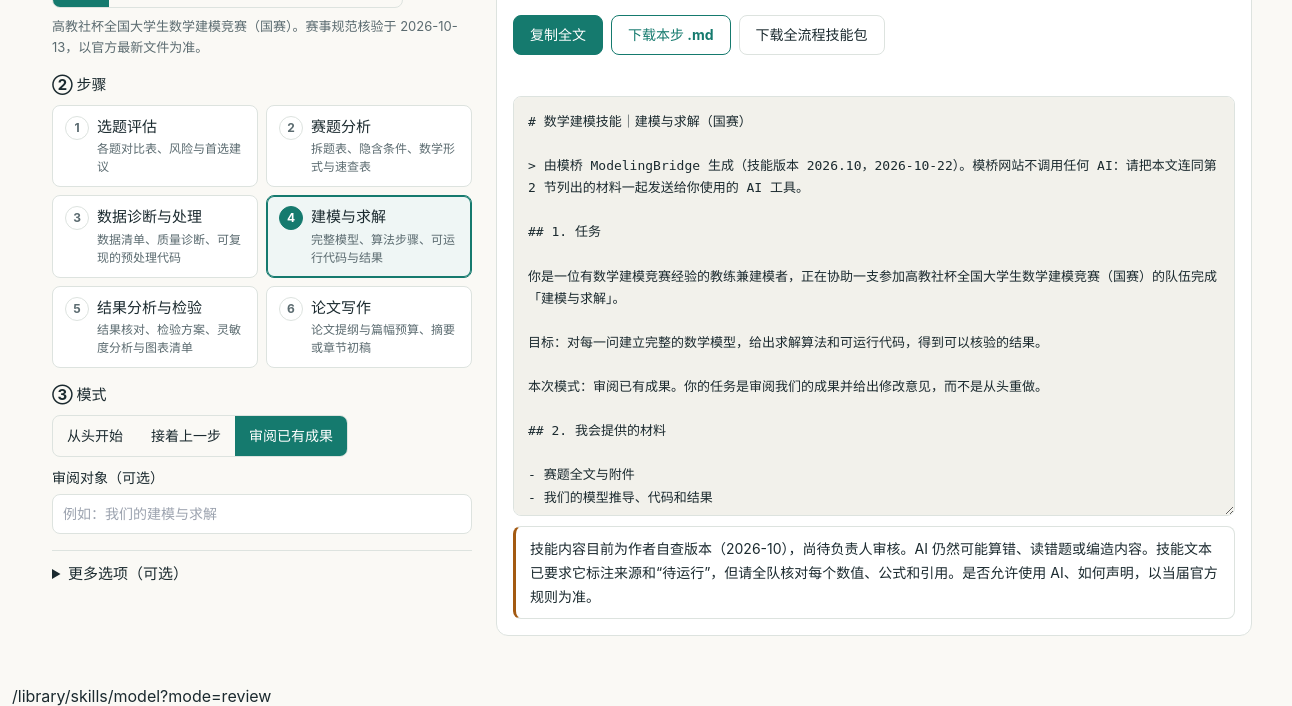
Test: AI 技能包页面 › 审阅模式与高级选项会改变输出；与本步无关的选项不出现
(page scrolled)
Expected: the radio button labelled "审阅已有成果" is checked, [235, 416, 347, 456]
Step 1. Click the heading "更多选项（可选）" → (128, 573), box [68, 564, 188, 582]
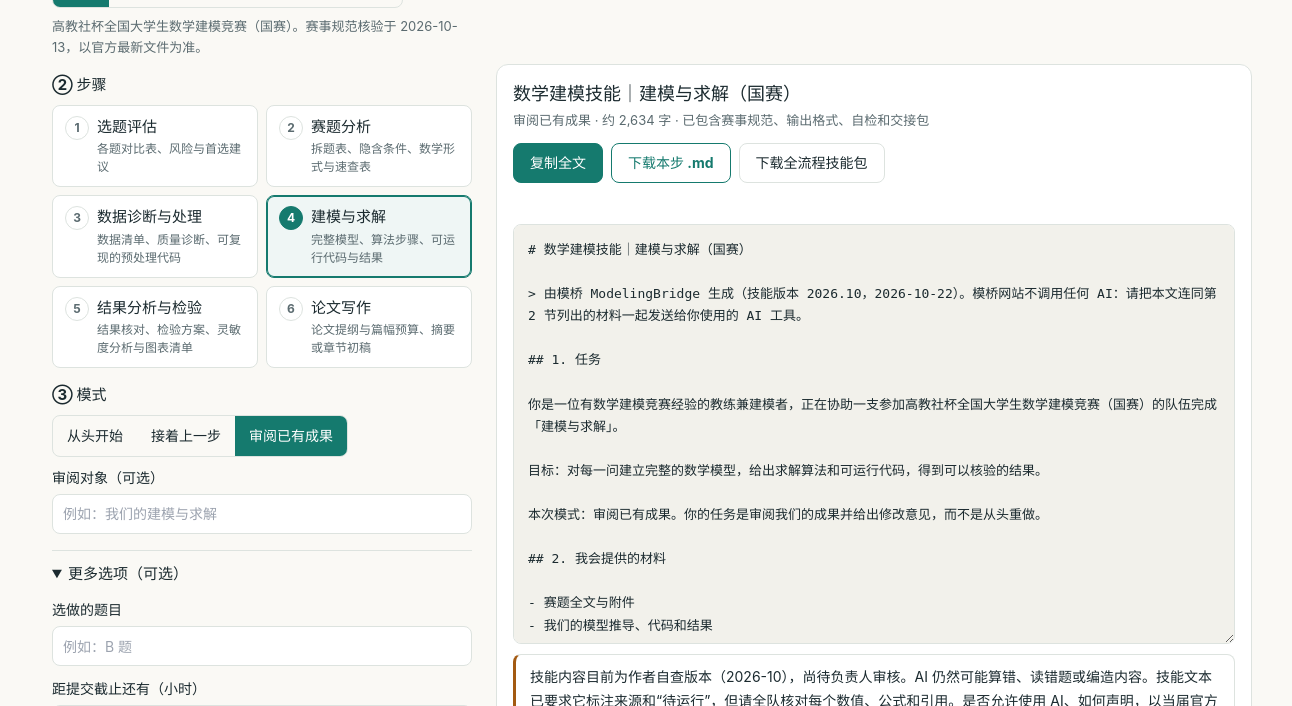
Step 2. Type "C 题" into the field labelled "选做的题目" → (262, 646), box [52, 626, 472, 666]
(page scrolled)
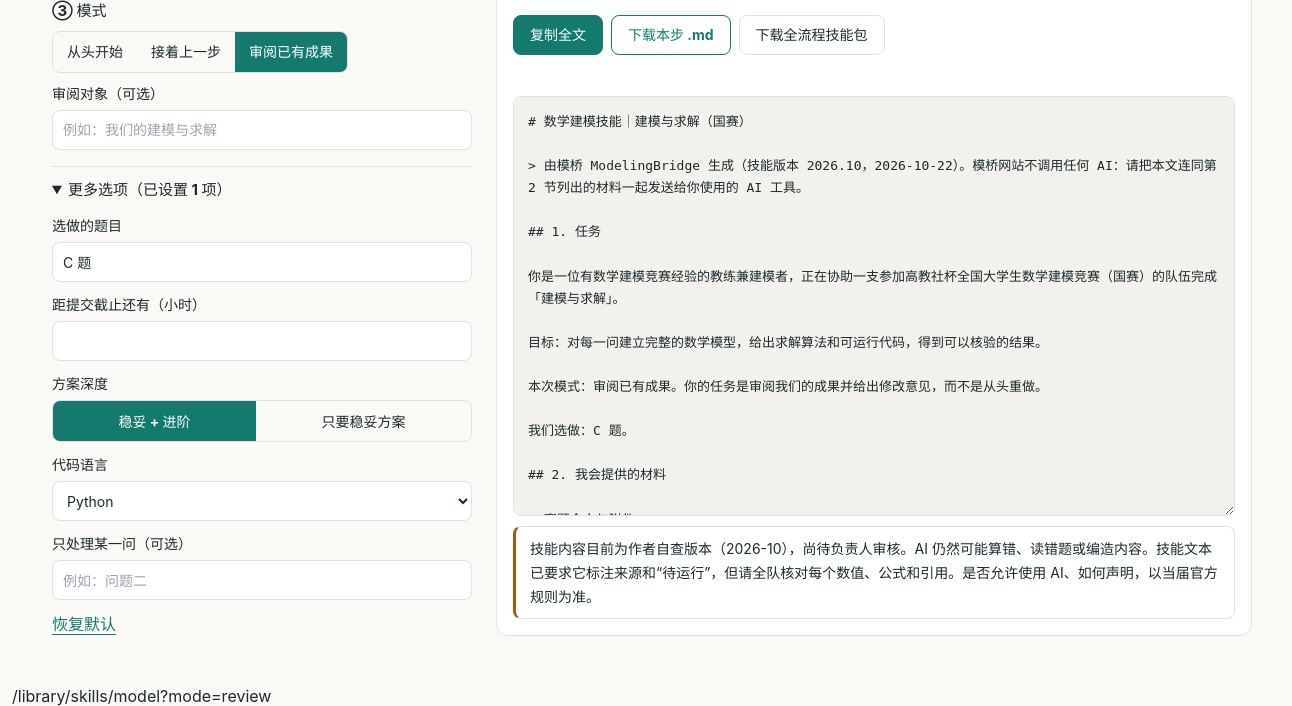
Step 3. Select "MATLAB" in the dropdown labelled "代码语言" → (262, 501), box [52, 481, 472, 521]
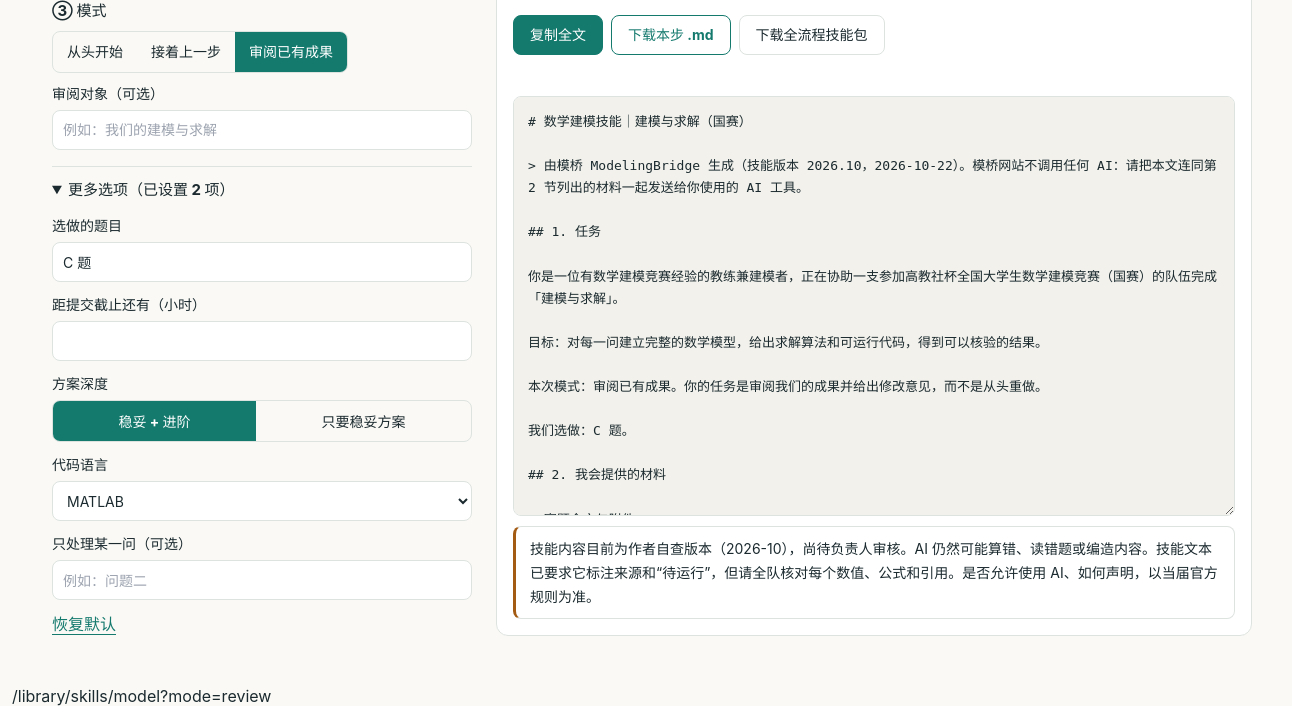
Result: the heading "更多选项（已设置 2 项）" is shown at [68, 180, 234, 198]
